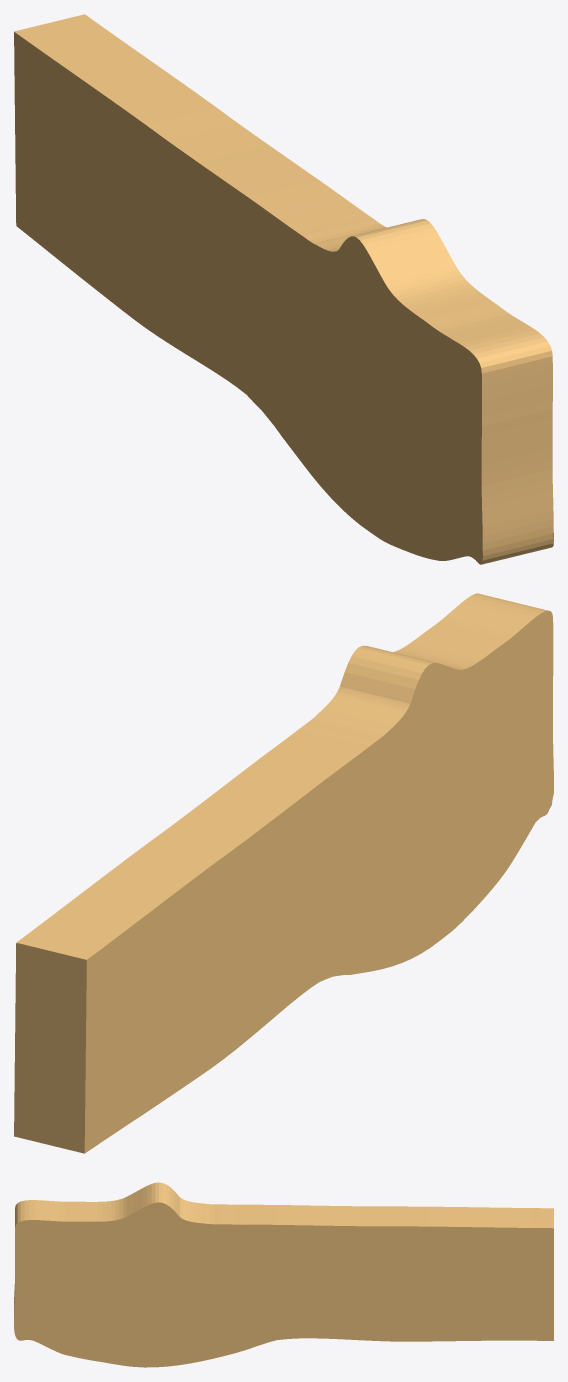
The model's file is Cartier2.glb.
The picture shows the model from 3 angles, top to bottom: view 1: azimuth 30°, elevation 25°; view 2: azimuth 150°, elevation 25°; view 3: azimuth 270°, elevation 25°; orthographic projection. The views are drawn at different scales.
Visible parts, largest first — view 1: glasses.022; view 2: glasses.022; view 3: glasses.022.
Boxes of the visible parts, box(x1,y1,x2,y2) form: glasses.022: box(14, 14, 553, 564); glasses.022: box(14, 593, 553, 1153); glasses.022: box(14, 1182, 553, 1367).
Size of the model in its own units: 0.0428 by 0.1546 by 0.4592.
